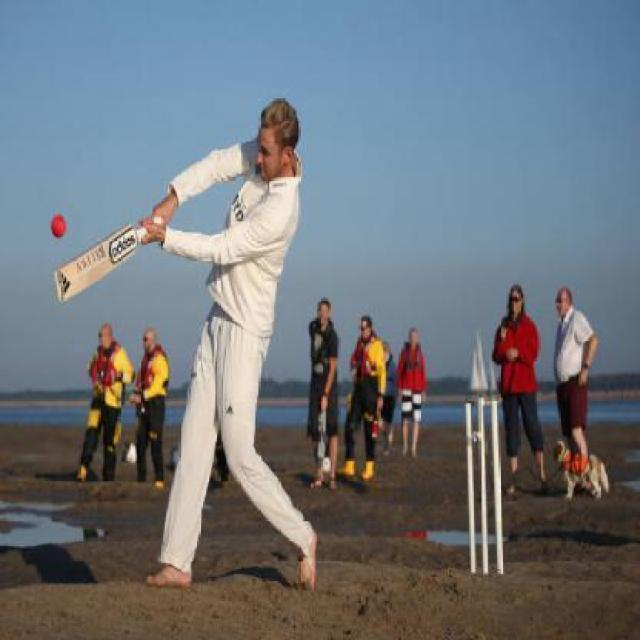-: (32, 202, 81, 253)
